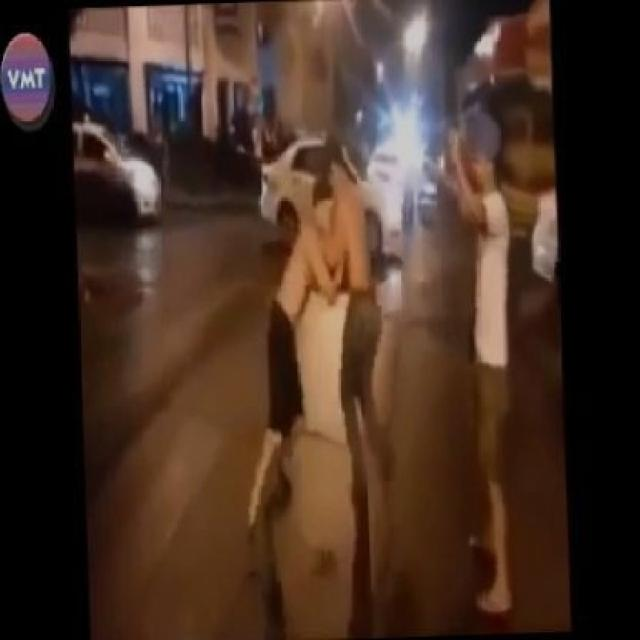fight: (245, 141, 388, 634)
non-fight: (422, 113, 533, 628)
